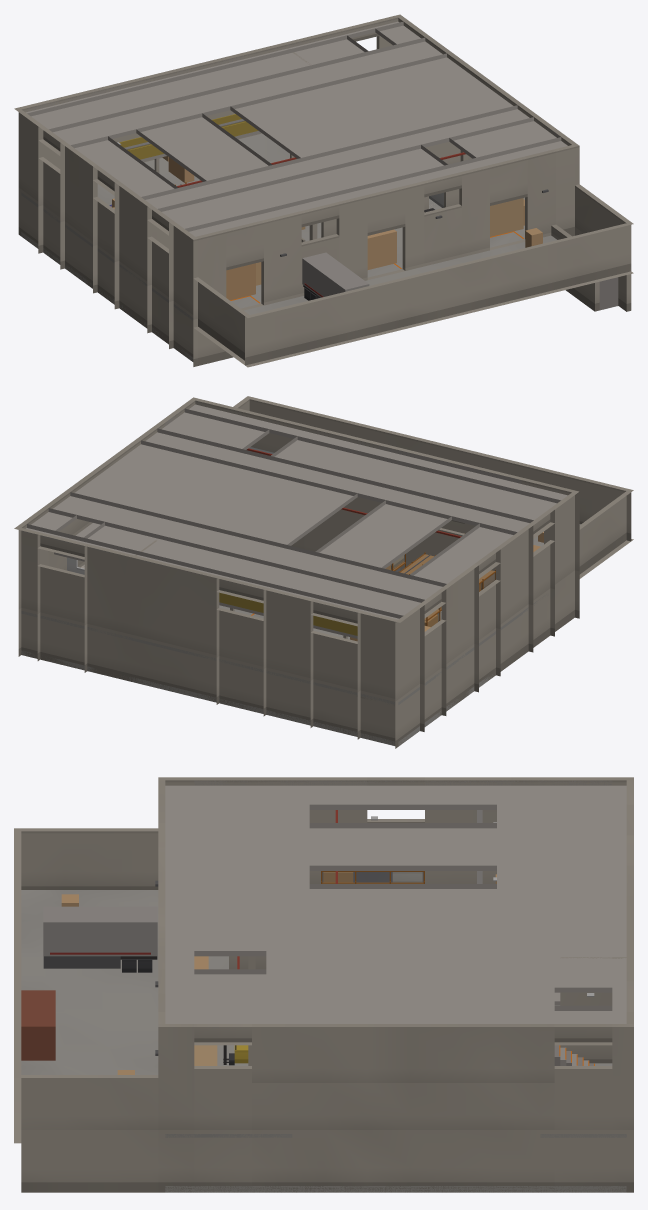
The model's file is warehouse.glb.
The picture shows the model from 3 angles, top to bottom: view 1: azimuth 30°, elevation 25°; view 2: azimuth 150°, elevation 25°; view 3: azimuth 270°, elevation 25°; orthographic projection. The views are drawn at different scales.
Visible parts, largest first — view 1: warehouse_world; view 2: warehouse_world; view 3: warehouse_world.
Boxes of the visible parts, left/top/right/bottom form: warehouse_world: left=14, top=14, right=633, bottom=367; warehouse_world: left=14, top=396, right=633, bottom=748; warehouse_world: left=14, top=777, right=633, bottom=1192.
Size of the model in its own units: 41 by 12.9 by 43.
